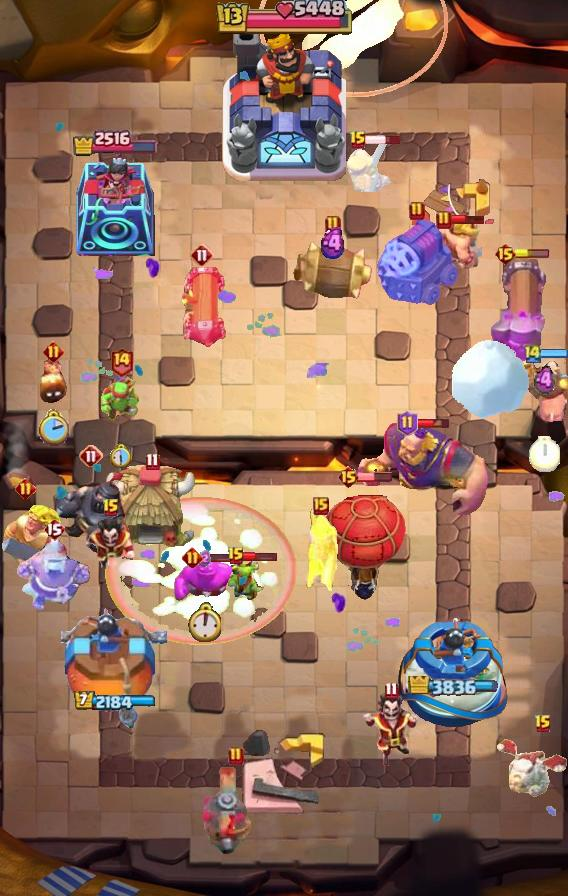arrows: (345, 143, 393, 195)
battle-healer: (175, 267, 229, 349)
bomb-tower: (302, 506, 340, 604)
bomber: (37, 358, 69, 406)
cannon-cart: (322, 482, 408, 600)
clock: (213, 0, 355, 38)
dark-prince: (203, 764, 269, 854)
electro-spirit: (319, 227, 349, 260), (534, 365, 555, 397), (197, 550, 211, 567)
elixir: (187, 602, 221, 642), (37, 410, 69, 447), (529, 436, 560, 472), (111, 443, 134, 469)
elixir-collector: (16, 537, 92, 613)
emote: (365, 134, 402, 146), (357, 471, 393, 483), (417, 417, 452, 429), (201, 551, 236, 563), (450, 215, 486, 226), (242, 551, 277, 562), (514, 249, 550, 259), (540, 348, 568, 359)
freeze: (514, 356, 568, 428)
furnace: (489, 255, 551, 369)
giant-snowball: (100, 376, 142, 422)
goblin-giant: (436, 217, 482, 271)
goblin-hut: (0, 503, 68, 577)
golem: (375, 216, 459, 306)
ice-wizard: (259, 0, 448, 96)
king-tower: (222, 31, 346, 181)
lightning: (357, 422, 492, 522)
lumberjack: (360, 693, 422, 769), (86, 519, 136, 571)
mini-pekka: (494, 736, 568, 800)
phoenix-big: (104, 495, 298, 646)
prince: (105, 463, 199, 553)
queen-tower: (395, 614, 514, 730), (61, 603, 167, 731), (73, 158, 155, 256)
royal-guardian: (50, 469, 132, 557)
selected: (70, 127, 157, 156), (409, 676, 500, 696), (73, 691, 155, 713)
text: (110, 347, 135, 378), (190, 243, 214, 267), (79, 444, 103, 468), (494, 242, 517, 266), (336, 465, 359, 489), (398, 410, 419, 436), (43, 517, 65, 541), (43, 341, 64, 363), (16, 477, 37, 499), (181, 547, 202, 569), (523, 343, 543, 364), (349, 130, 367, 150), (102, 498, 120, 518), (227, 546, 245, 566), (534, 714, 552, 734), (409, 201, 425, 221), (436, 210, 452, 230), (325, 215, 341, 235), (228, 746, 244, 766), (313, 497, 329, 515), (145, 453, 160, 471), (385, 680, 399, 699)
the-log: (291, 239, 375, 301)
tornado: (173, 557, 235, 603)
wall-breaker: (450, 338, 532, 420)
zap: (228, 560, 268, 602)
